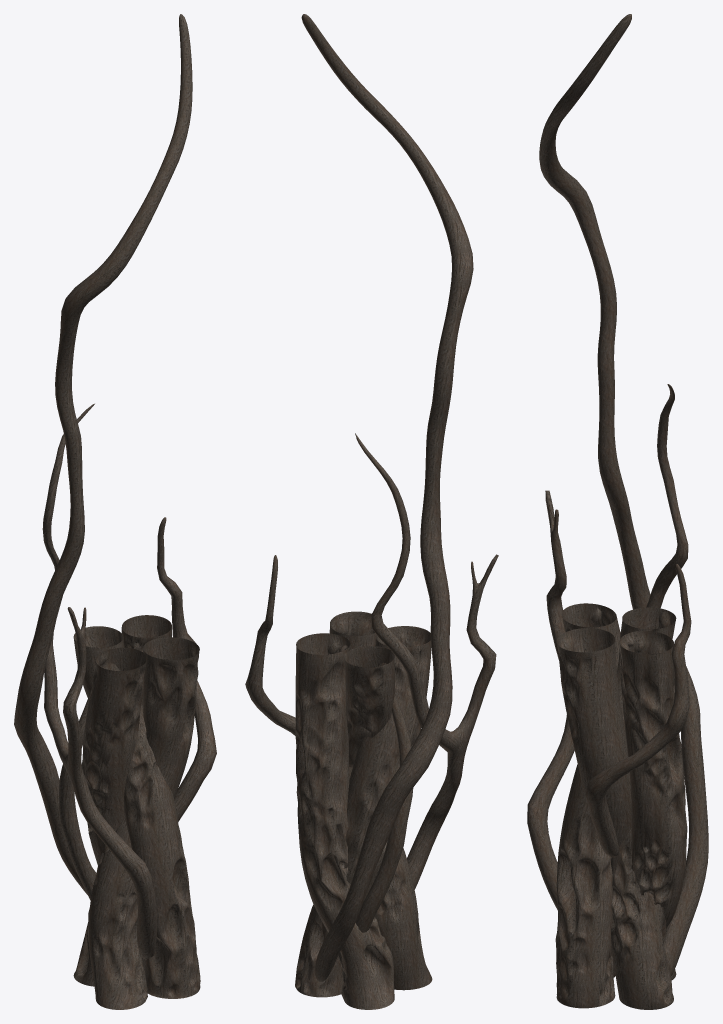
File: SM_BigTree001.fbx
3 renders of one model, left to right at view 1: azimuth 30°, elevation 25°; view 2: azimuth 150°, elevation 25°; view 3: azimuth 270°, elevation 25°, orthographic. The views are drawn at different scales.
Parts seen in each view (by area): view 1: SM_BigTree001; view 2: SM_BigTree001; view 3: SM_BigTree001.
Part boxes in pixels (left/top/right/bottom): SM_BigTree001: left=14, top=14, right=216, bottom=1009; SM_BigTree001: left=245, top=14, right=498, bottom=1009; SM_BigTree001: left=527, top=14, right=708, bottom=1009.
Size of the model in its own units: 4669 by 22428 by 3699.
